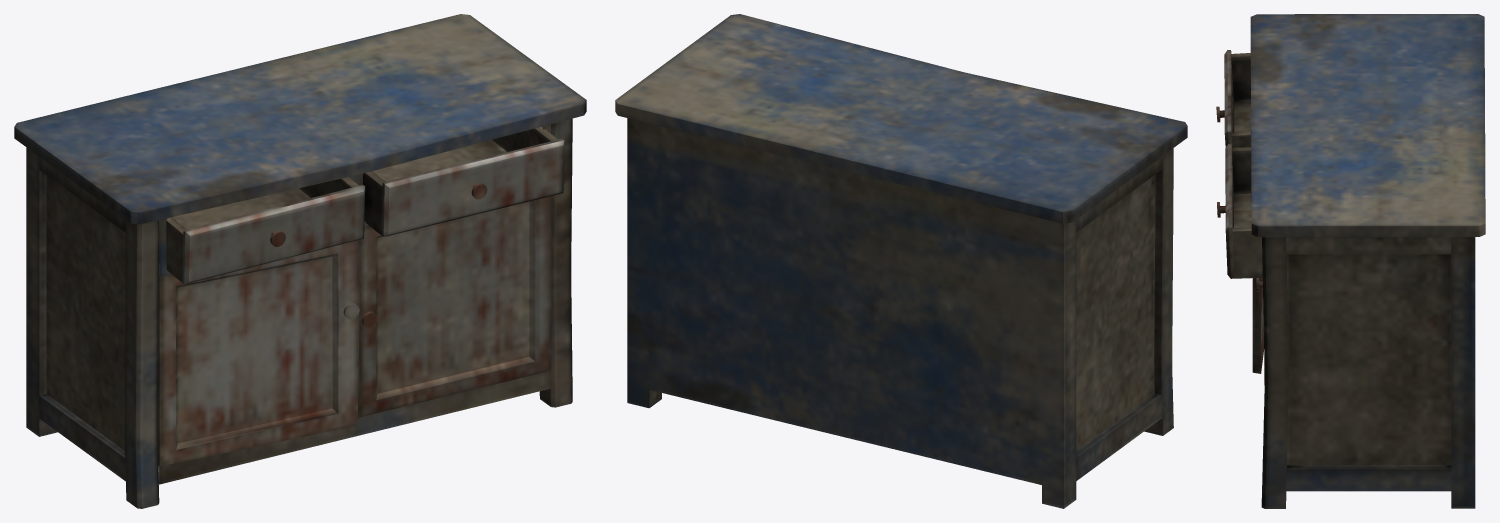
The model's file is S_Cabinet_T02.FBX.
3 renders of one model, left to right at view 1: azimuth 30°, elevation 25°; view 2: azimuth 150°, elevation 25°; view 3: azimuth 270°, elevation 25°, orthographic. The views are drawn at different scales.
Parts seen in each view (by area): view 1: S_Cabinet_T02, Door_01, Door_02, Drawer_02, Drawer_01; view 2: S_Cabinet_T02; view 3: S_Cabinet_T02, Drawer_02, Drawer_01, Door_01.
Part boxes in pixels (x1,y1,x2,y2): S_Cabinet_T02: [14, 14, 586, 508]; Door_01: [157, 240, 359, 466]; Door_02: [358, 196, 551, 417]; Drawer_02: [363, 126, 564, 236]; Drawer_01: [159, 177, 365, 284]; S_Cabinet_T02: [615, 14, 1187, 508]; S_Cabinet_T02: [1250, 14, 1485, 508]; Drawer_02: [1217, 143, 1262, 278]; Drawer_01: [1216, 50, 1251, 147]; Door_01: [1252, 277, 1264, 373].
Bounding box in the file's own units: 157 × 99 × 84.02.
